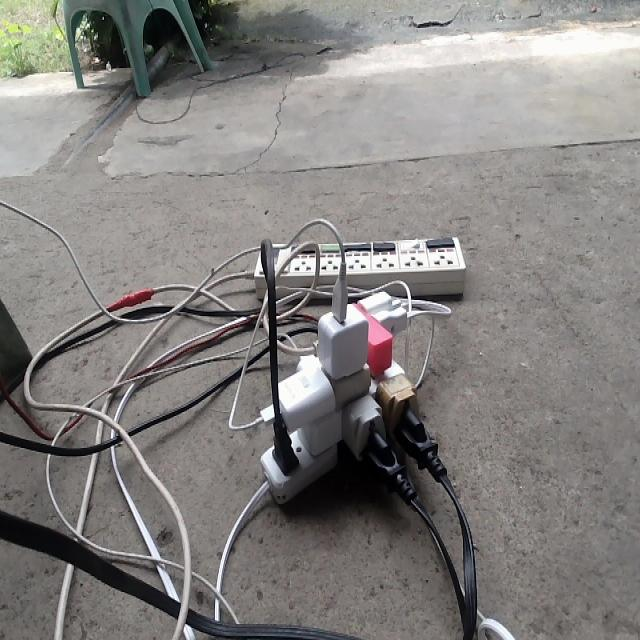-: (253, 288, 423, 511)
